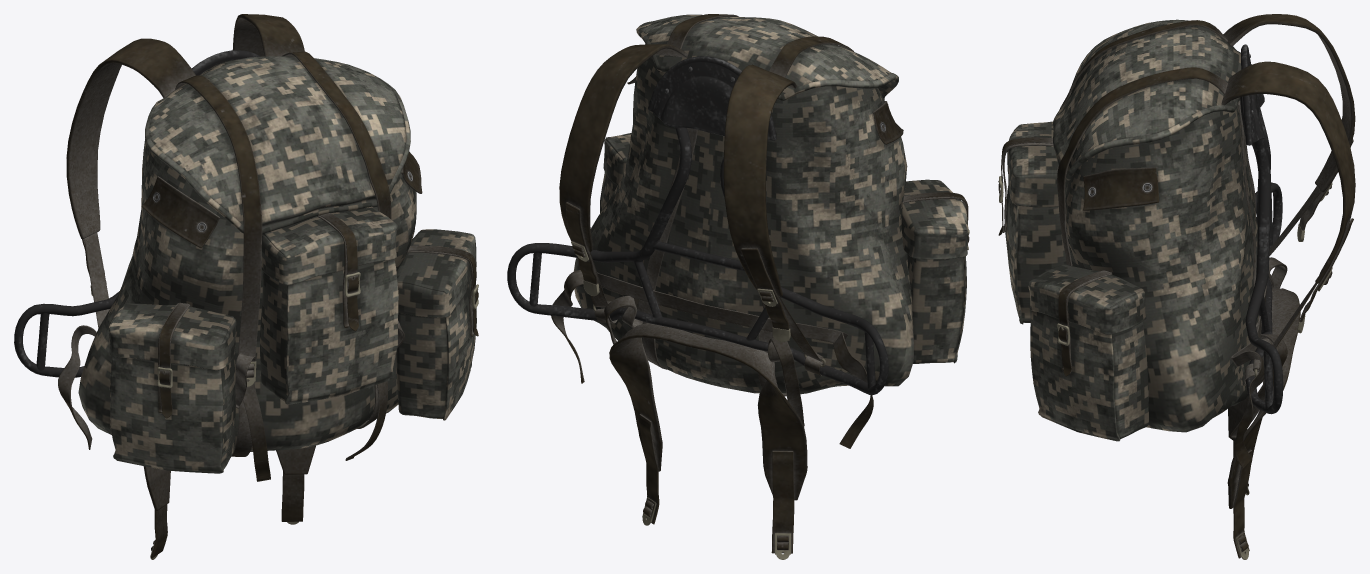
File: military_backpack-1.glb
3 views of the same model, side by side, from view 1: azimuth 30°, elevation 25°; view 2: azimuth 150°, elevation 25°; view 3: azimuth 270°, elevation 25° (orthographic). The views are drawn at different scales.
Parts seen in each view (by area): view 1: pouch_001_mesh.014, strap_001_mesh.008, cover_mesh.003, main_mesh.004, frame_001_mesh.001, buckle_001_mesh.008; view 2: main_mesh.004, strap_001_mesh.008, frame_001_mesh.001, pouch_001_mesh.014, cover_mesh.003, buckle_001_mesh.008; view 3: main_mesh.004, strap_001_mesh.008, pouch_001_mesh.014, cover_mesh.003, frame_001_mesh.001, buckle_001_mesh.008.
Part boxes in pixels (box(x1,y1,x2,y2)): pouch_001_mesh.014: box(108, 206, 476, 473); strap_001_mesh.008: box(58, 14, 478, 558); cover_mesh.003: box(145, 56, 410, 234); main_mesh.004: box(78, 138, 416, 451); frame_001_mesh.001: box(14, 50, 260, 377); buckle_001_mesh.008: box(82, 241, 478, 559); main_mesh.004: box(573, 44, 913, 394); strap_001_mesh.008: box(551, 14, 969, 553); frame_001_mesh.001: box(507, 56, 888, 395); pouch_001_mesh.014: box(600, 97, 968, 363); cover_mesh.003: box(636, 14, 898, 100); buckle_001_mesh.008: box(571, 229, 969, 559); main_mesh.004: box(1065, 97, 1265, 432); strap_001_mesh.008: box(998, 14, 1355, 558); pouch_001_mesh.014: box(1005, 121, 1148, 441); cover_mesh.003: box(1053, 19, 1241, 180); frame_001_mesh.001: box(1240, 44, 1283, 414); buckle_001_mesh.008: box(998, 176, 1332, 559).
Bounding box in the file's own units: 0.6919 × 0.8606 × 0.5727.
7 materials, 7 textured.
